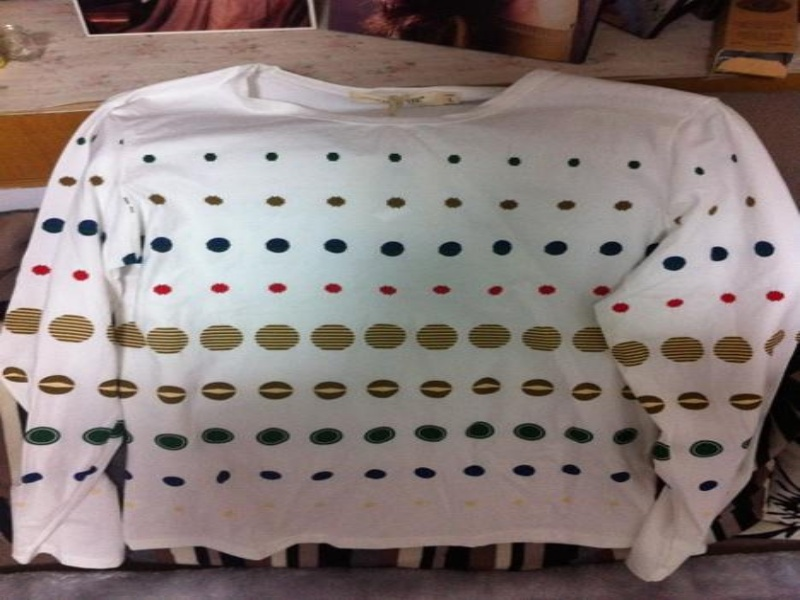long_sleeved_shirt: (2, 60, 798, 586)
